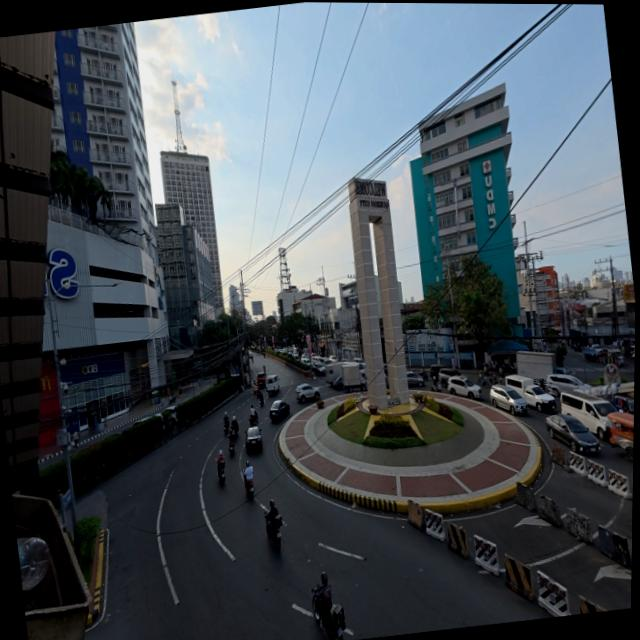Jeepneys: (607, 412, 633, 462)
car: (560, 392, 615, 439), (545, 414, 598, 453), (489, 385, 528, 415), (544, 374, 589, 397), (523, 385, 555, 412), (447, 375, 480, 399), (295, 383, 319, 403), (131, 413, 161, 428), (269, 400, 289, 421), (437, 368, 459, 387), (245, 426, 261, 452), (612, 396, 633, 415), (405, 371, 423, 387), (164, 405, 177, 424), (330, 374, 344, 391), (427, 365, 441, 380), (589, 342, 603, 355), (314, 362, 325, 375), (255, 373, 264, 388), (571, 343, 582, 352), (300, 357, 310, 366), (382, 363, 388, 375), (352, 358, 364, 364)
motorcycle: (311, 587, 345, 639), (265, 514, 281, 549), (226, 430, 236, 455), (244, 477, 254, 499), (217, 463, 224, 484), (477, 376, 489, 387), (431, 380, 441, 392), (249, 411, 257, 426), (223, 421, 229, 435), (168, 393, 175, 404), (420, 371, 427, 381), (258, 397, 263, 407)
trucks: (516, 352, 555, 381), (341, 363, 365, 392), (325, 363, 342, 384)
vans: (560, 392, 615, 440), (505, 375, 533, 396), (264, 375, 278, 396)
